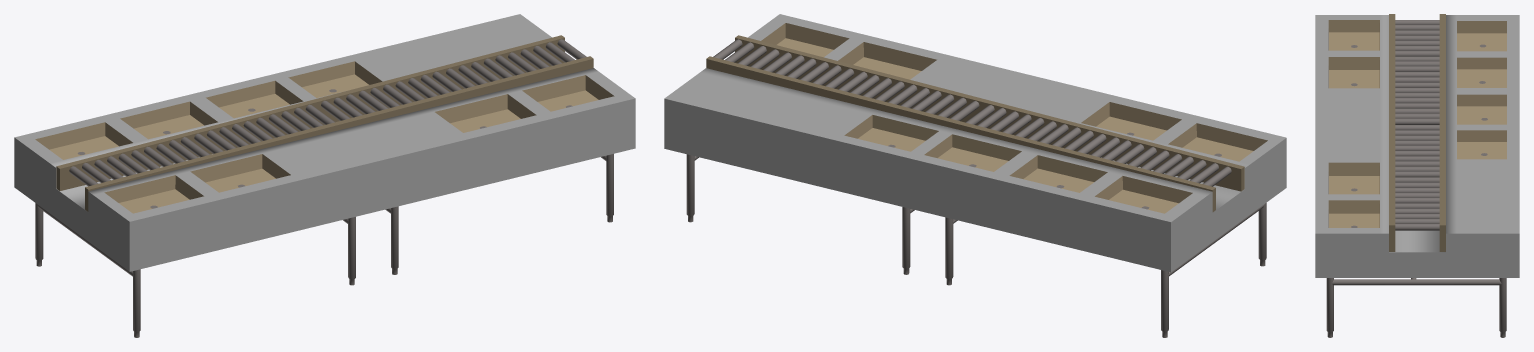
File: SM_Table_Kitchen_02.fbx
The picture shows the model from 3 angles, left to right: view 1: azimuth 30°, elevation 25°; view 2: azimuth 150°, elevation 25°; view 3: azimuth 270°, elevation 25°; orthographic projection. The views are drawn at different scales.
Parts seen in each view (by area): view 1: SM_Table_Kitchen_02; view 2: SM_Table_Kitchen_02; view 3: SM_Table_Kitchen_02.
Part boxes in pixels (bbox=[...]): SM_Table_Kitchen_02: bbox=[14, 14, 635, 337]; SM_Table_Kitchen_02: bbox=[664, 14, 1286, 337]; SM_Table_Kitchen_02: bbox=[1315, 14, 1519, 337].
Size of the model in its own units: 402 by 102 by 159.
3 materials, 3 textured.
